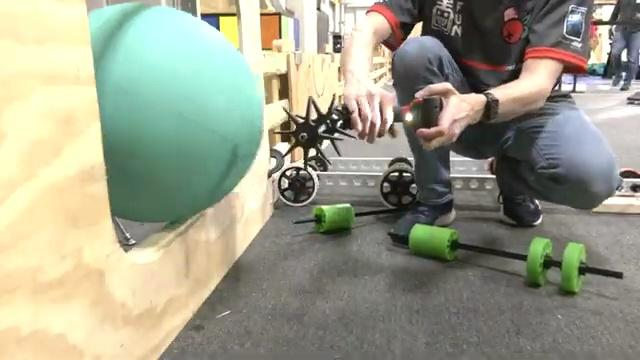ALGAE: (85, 2, 264, 228)
